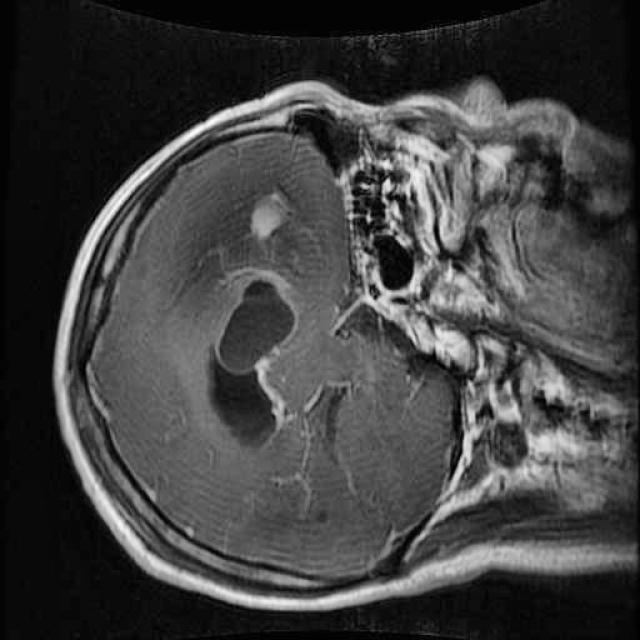Non-Tumor: (230, 164, 306, 248)
